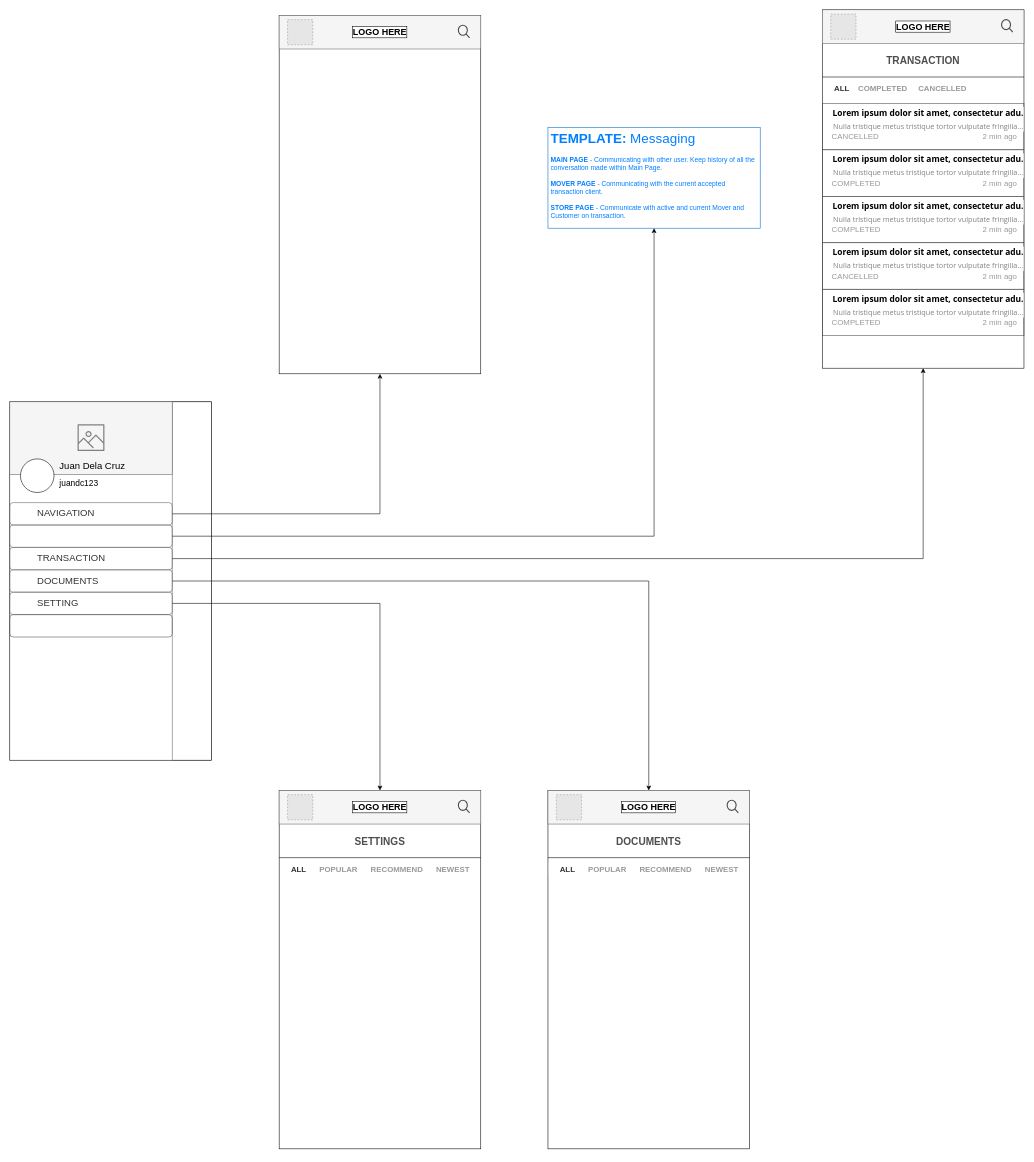
The diagram is 1034 pixels wide and 1162 high, and some of its shapes have lost their labels. Grey dashed boxes stand in for pictures. The box of each missing label's shape, as (x1, y1, x2, y2) in pixels:
MAIN PAGE - {MAIN PAGE}: (9, 614, 172, 637)
MESSAGE: (9, 524, 172, 547)
PHOTO: (20, 458, 54, 493)
